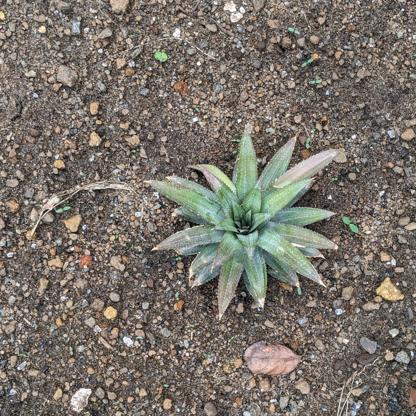pineapple: (145, 129, 336, 322)
